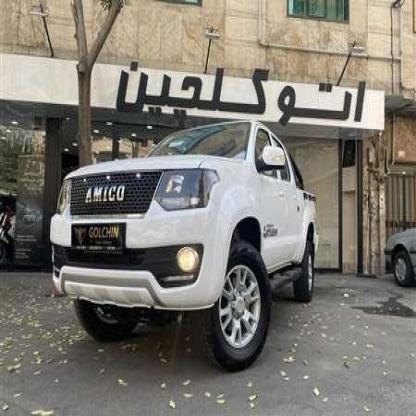Car: (53, 97, 318, 377), (381, 212, 416, 280)
